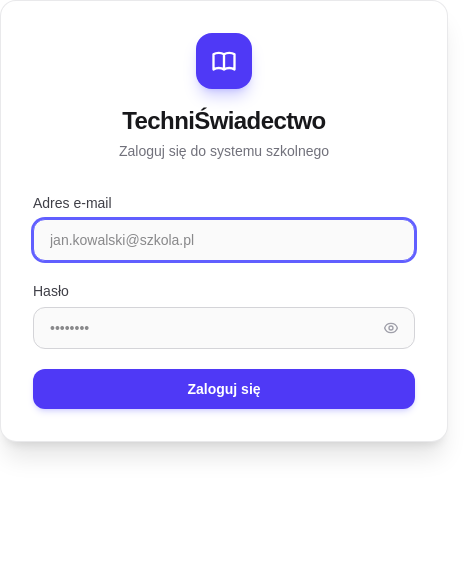
Test: LoginForm › displays server error message on login failure
The image size is (465, 578).
Type "wrong@szkola.pl" into the field labelled "Adres e-mail" at point(224, 240), box left=33, top=219, right=415, bottom=261
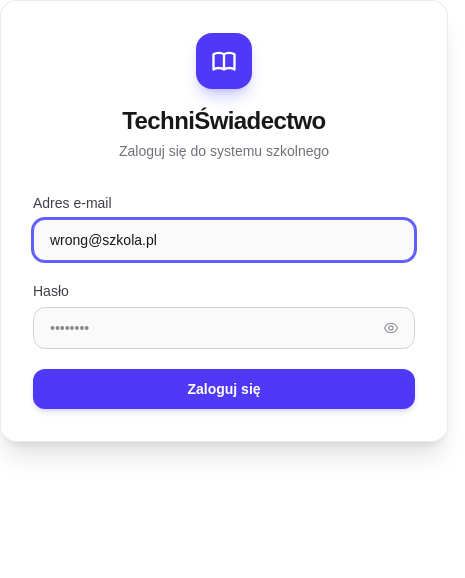
Type "wrongpass" into the password field labelled "Hasło" at point(224, 328), box left=33, top=307, right=415, bottom=349
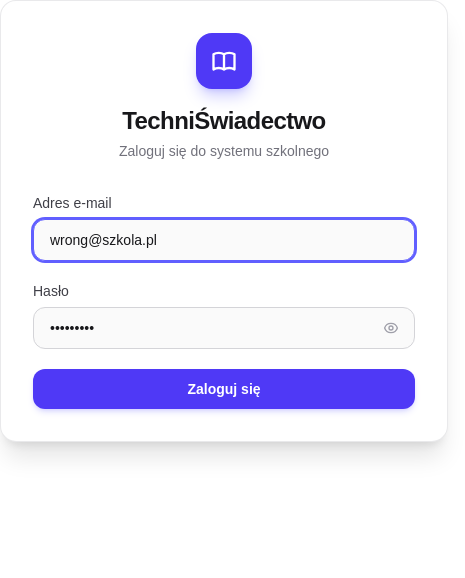
Click the button "Zaloguj się" at point(224, 389), box left=33, top=369, right=415, bottom=409
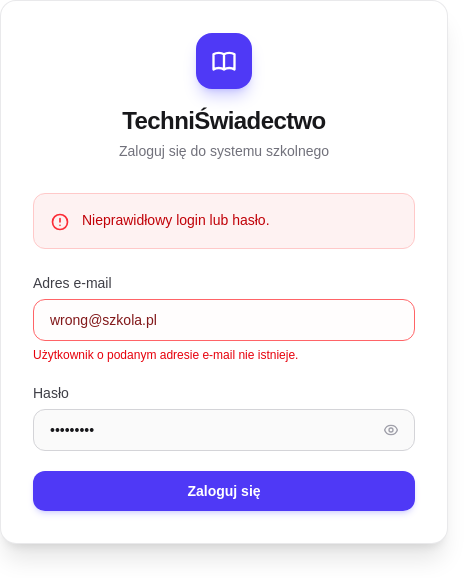
Expected: the message "Nieprawidłowy login lub hasło." is shown, left=33, top=193, right=415, bottom=249
Expected: the text "Nieprawidłowy login lub hasło." is shown, left=82, top=212, right=270, bottom=228
Expected: the text "Użytkownik o podanym adresie e-mail nie istnieje." is shown, left=33, top=348, right=298, bottom=362
